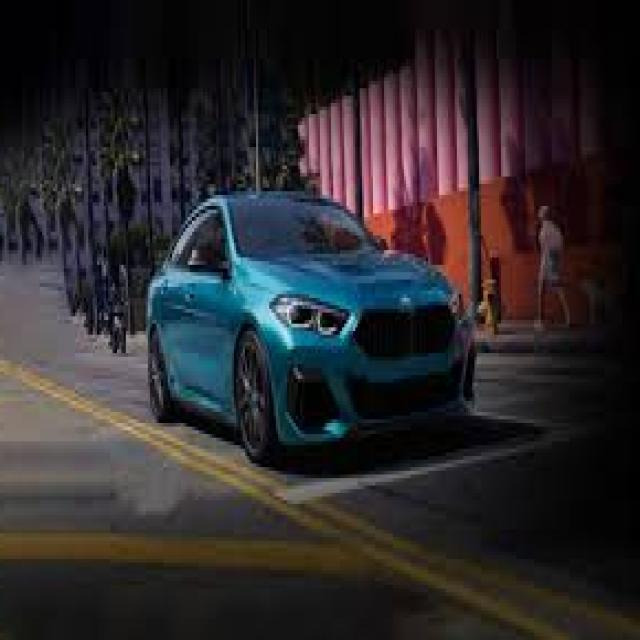car: (143, 194, 470, 446)
